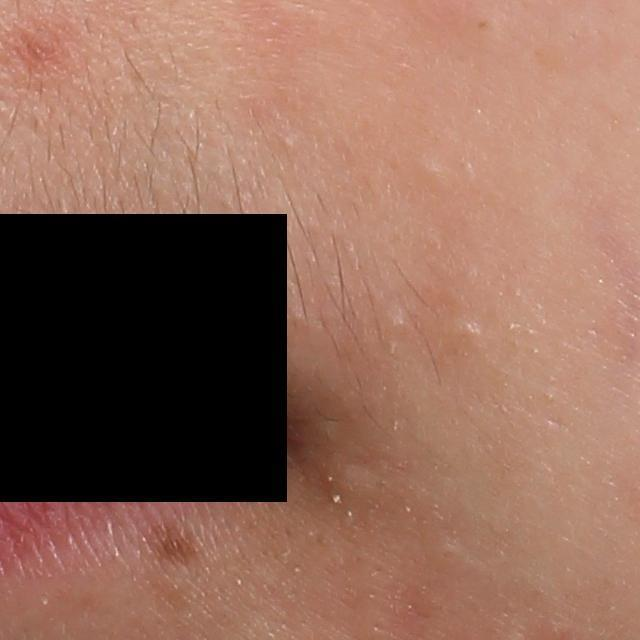comedo: (453, 317, 485, 338), (387, 310, 410, 333), (419, 161, 442, 182), (281, 135, 297, 152)
hypertrophic_scar: (317, 460, 386, 505)
nevus: (148, 519, 190, 561)
